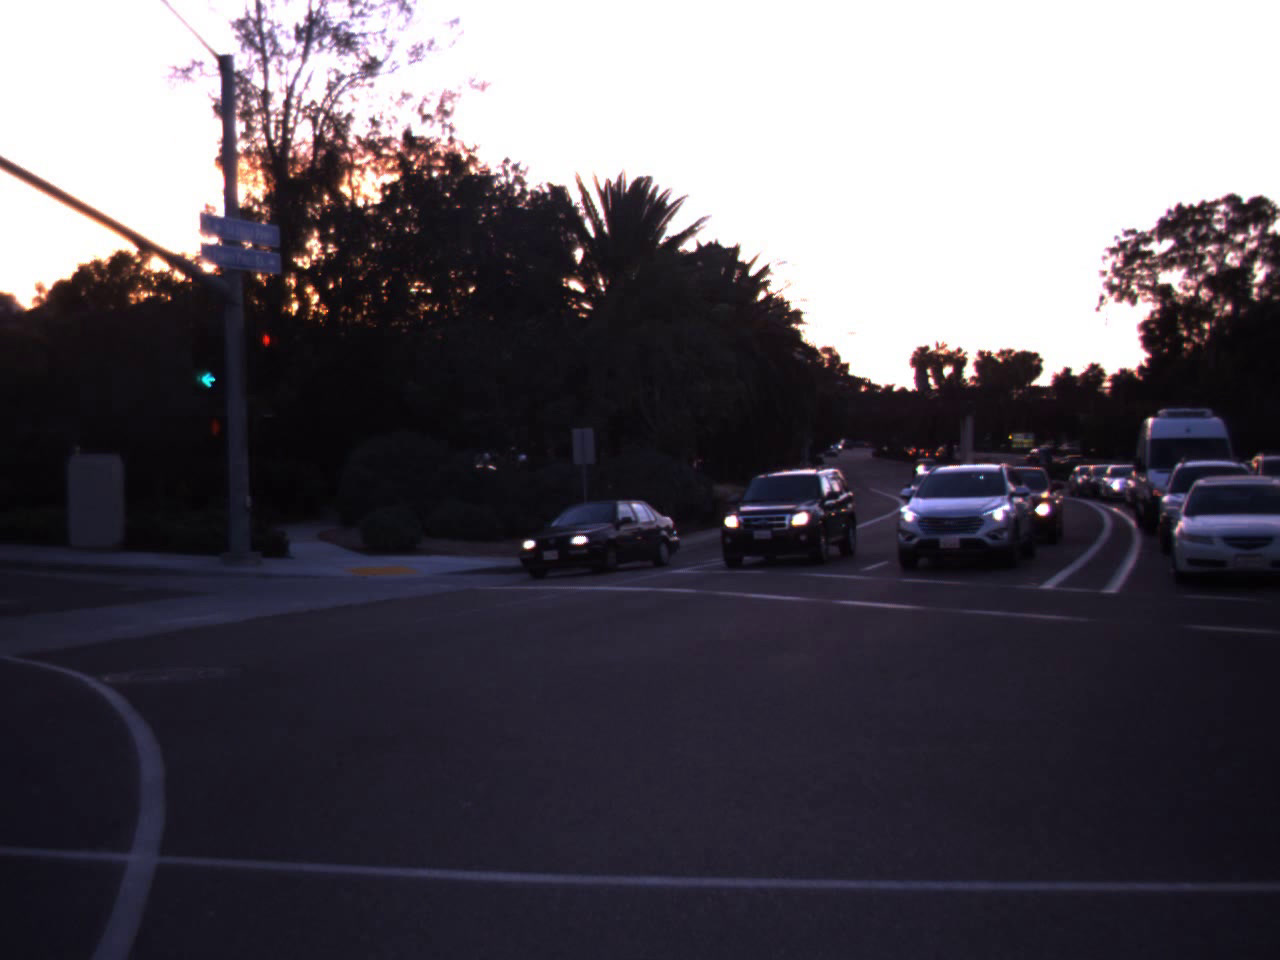go: (174, 318, 240, 393)
